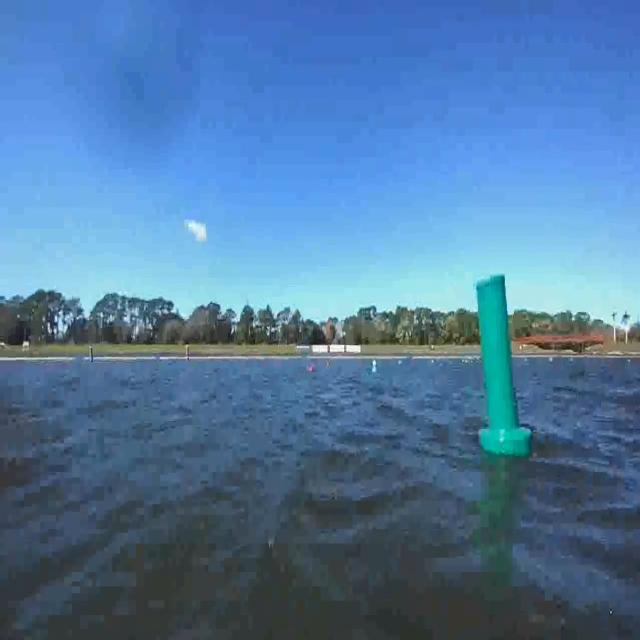green-column-buoy: (475, 271, 531, 457)
